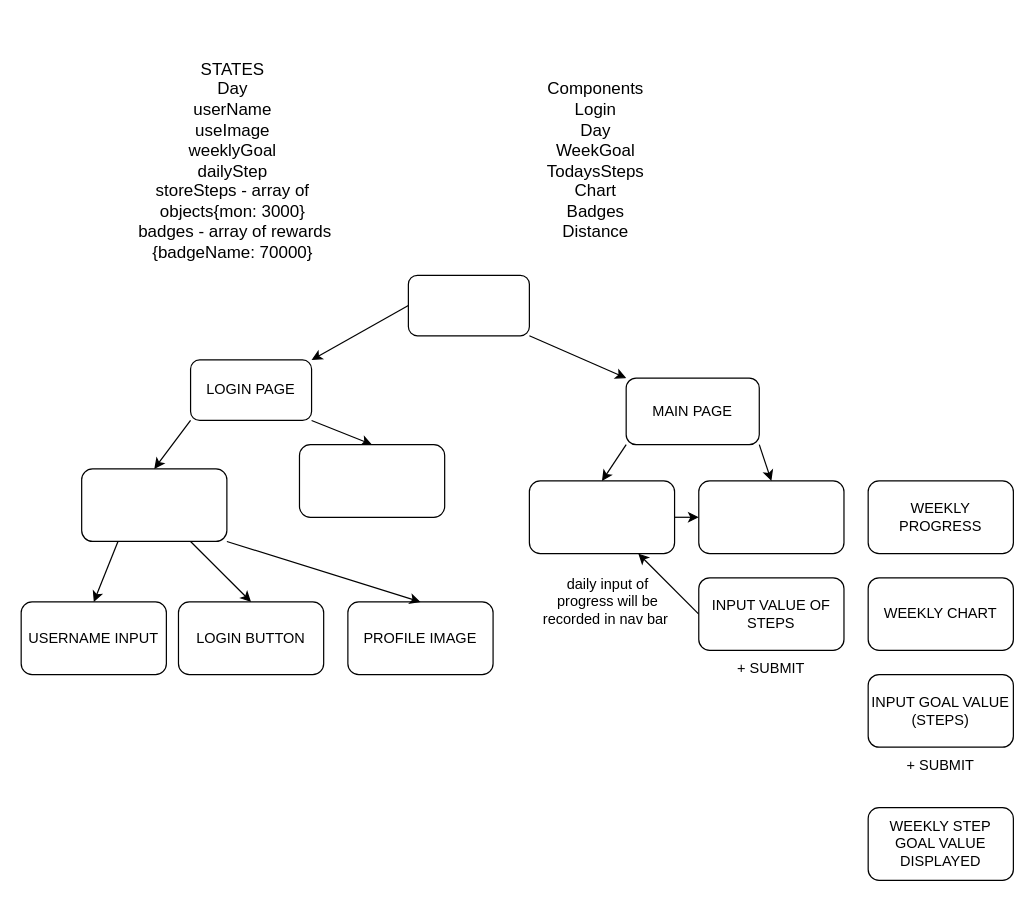
Image size: 1035x901. Some labels were removed from this diagram. The shapes that lost their labels are listed below. From the top down, each one's centre as x and y in pixels, then its label:
At (x=468, y=305): "APP".
At (x=371, y=480): "IMAGE".
At (x=153, y=504): "LOGIN FORM".
At (x=601, y=517): "LEFT SIDE NAV BAR".
At (x=771, y=517): "DAILY PROGRESS".
